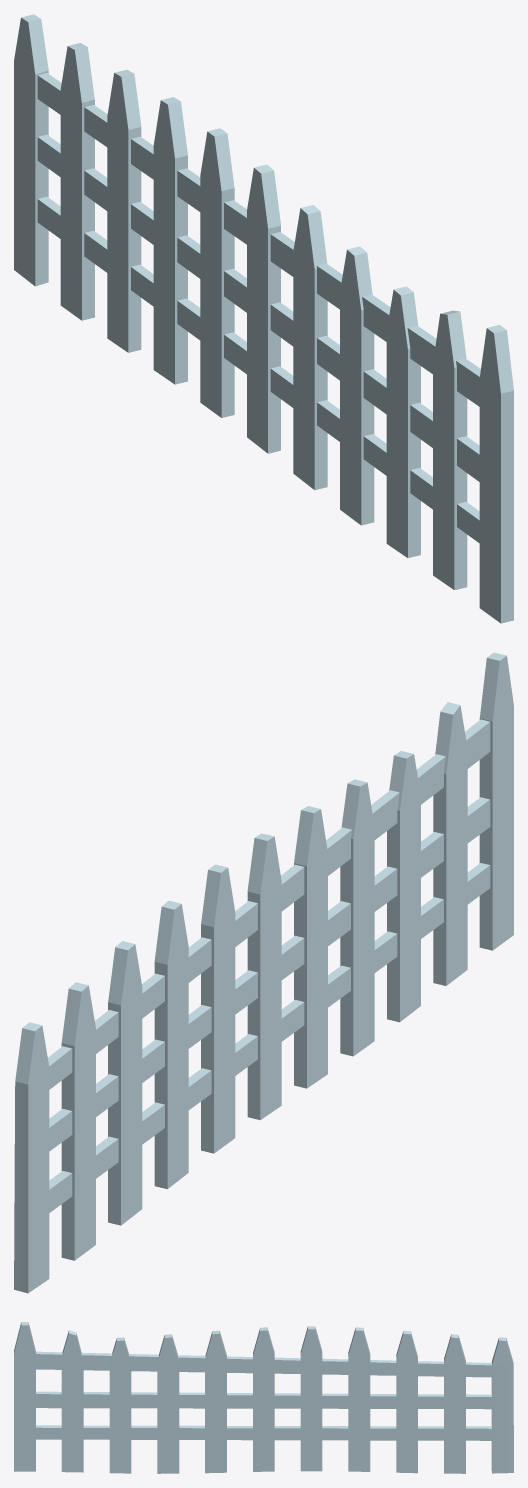
The model's file is WoodFence.fbx.
The picture shows the model from 3 angles, top to bottom: view 1: azimuth 30°, elevation 25°; view 2: azimuth 150°, elevation 25°; view 3: azimuth 270°, elevation 25°; orthographic projection. The views are drawn at different scales.
Visible parts, largest first — view 1: Wood Fence; view 2: Wood Fence; view 3: Wood Fence.
Boxes of the visible parts, x1,y1,x2,y2 form: Wood Fence: [14, 14, 513, 623]; Wood Fence: [14, 652, 513, 1293]; Wood Fence: [14, 1322, 513, 1473].
Bounding box in the file's own units: 5.59 × 112 × 341.
